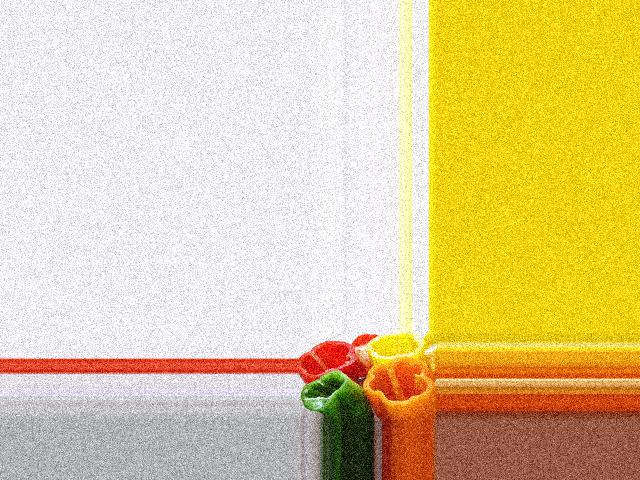bell_pepper: (301, 339, 357, 376)
